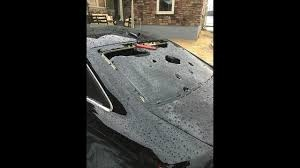Broken-glass: (100, 41, 201, 94)
